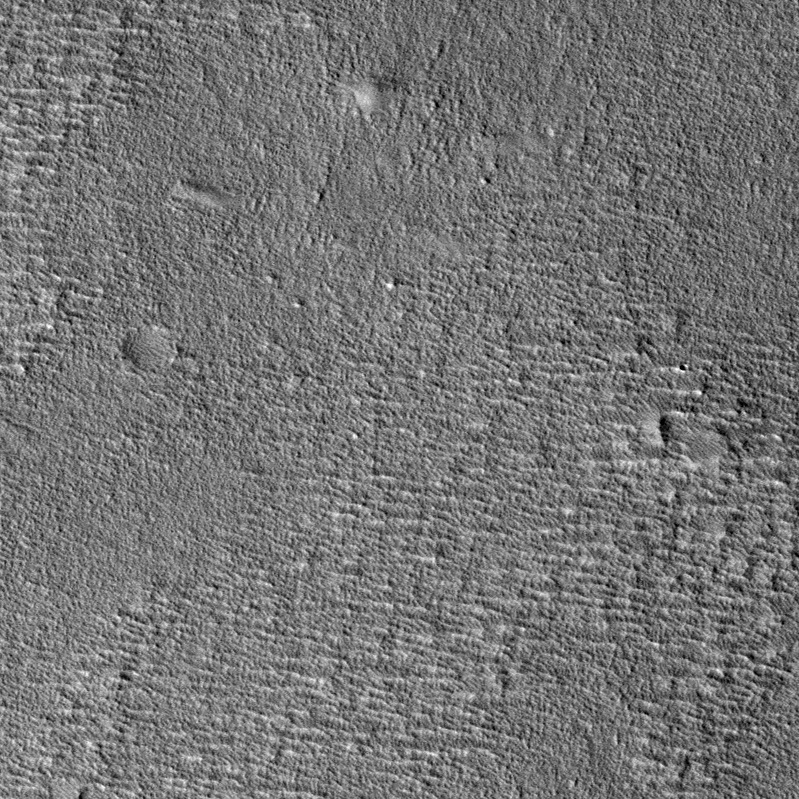dust_devil: (331, 74, 410, 115)
